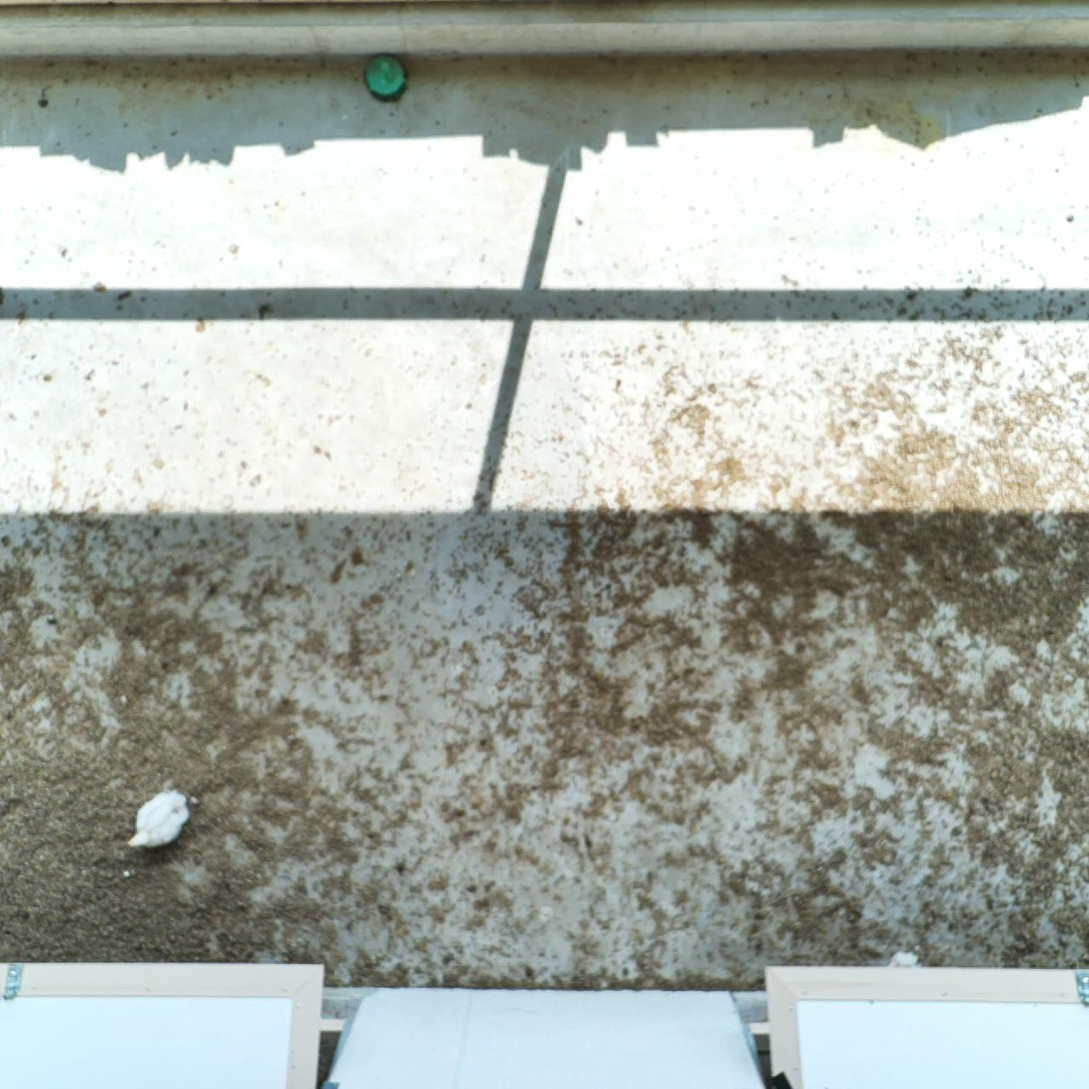chicken: (123, 785, 194, 852), (885, 946, 925, 975)
